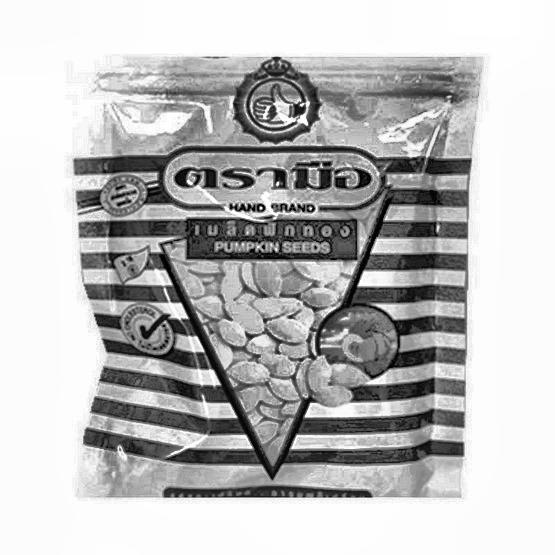snackbag: (39, 28, 492, 528)
